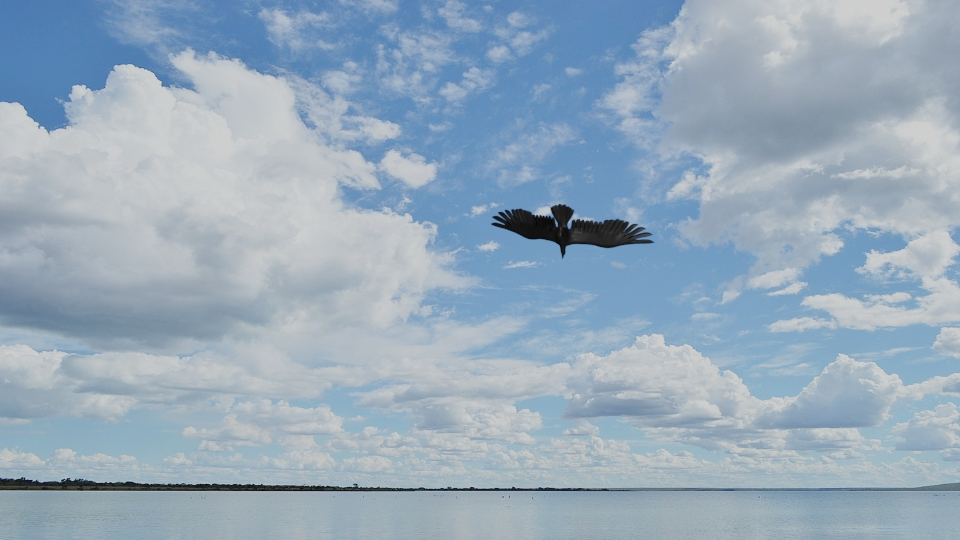bird: (489, 200, 654, 258)
